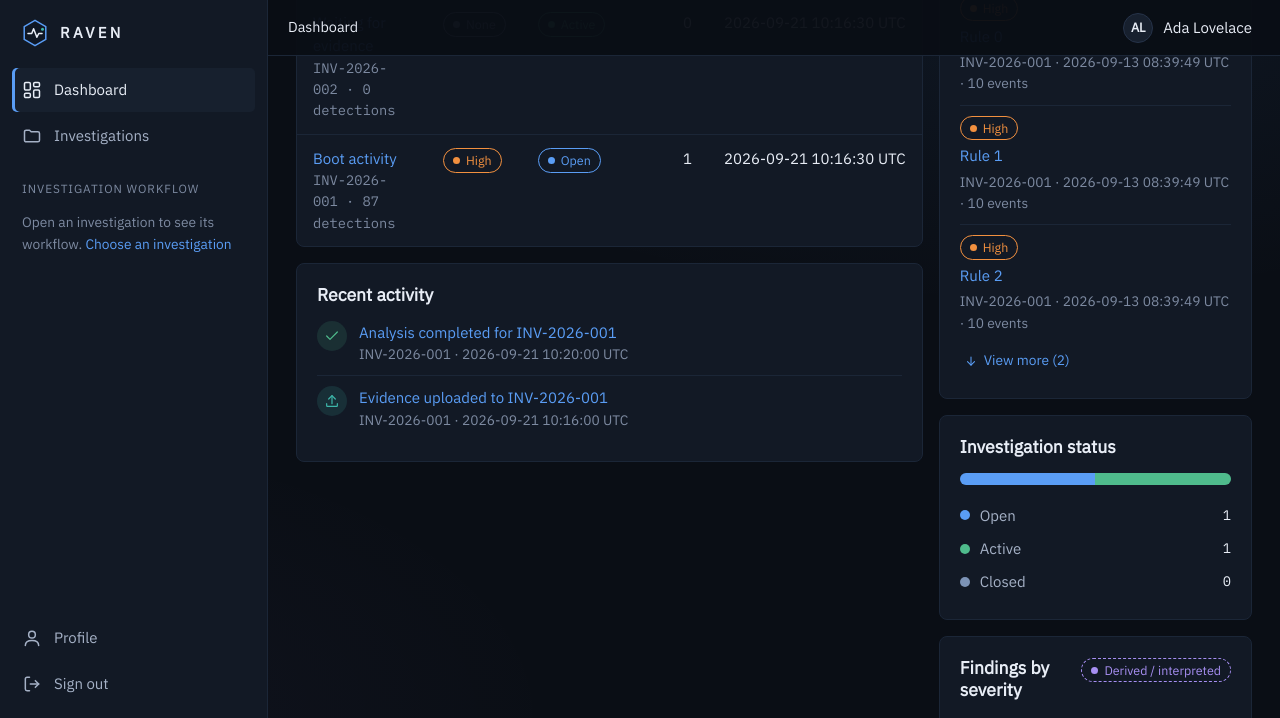
Dashboard › shows only the first alerts until View more is used
The image size is (1280, 718).
(page scrolled)
Click the button "View more (2)" at [1017, 361], box top-left (960, 344), bottom-right (1074, 378)
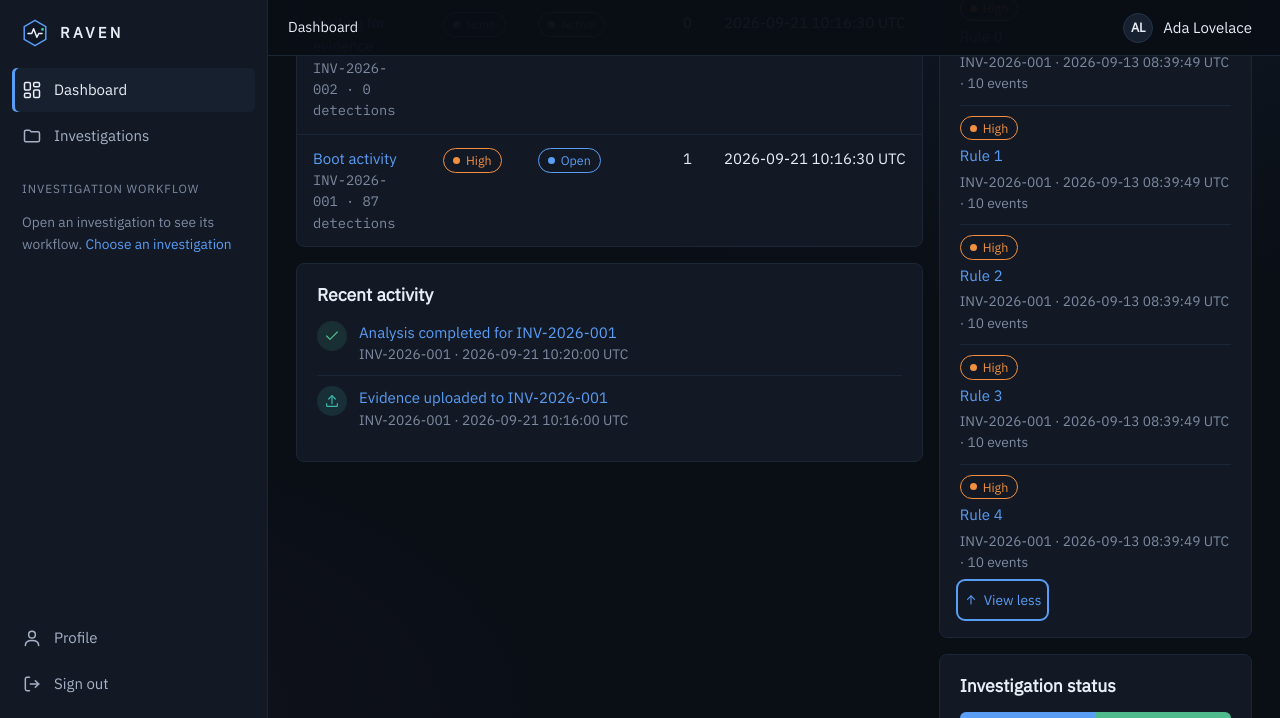
Expected: the button "View less" is expanded, top-left (960, 583), bottom-right (1045, 617)
